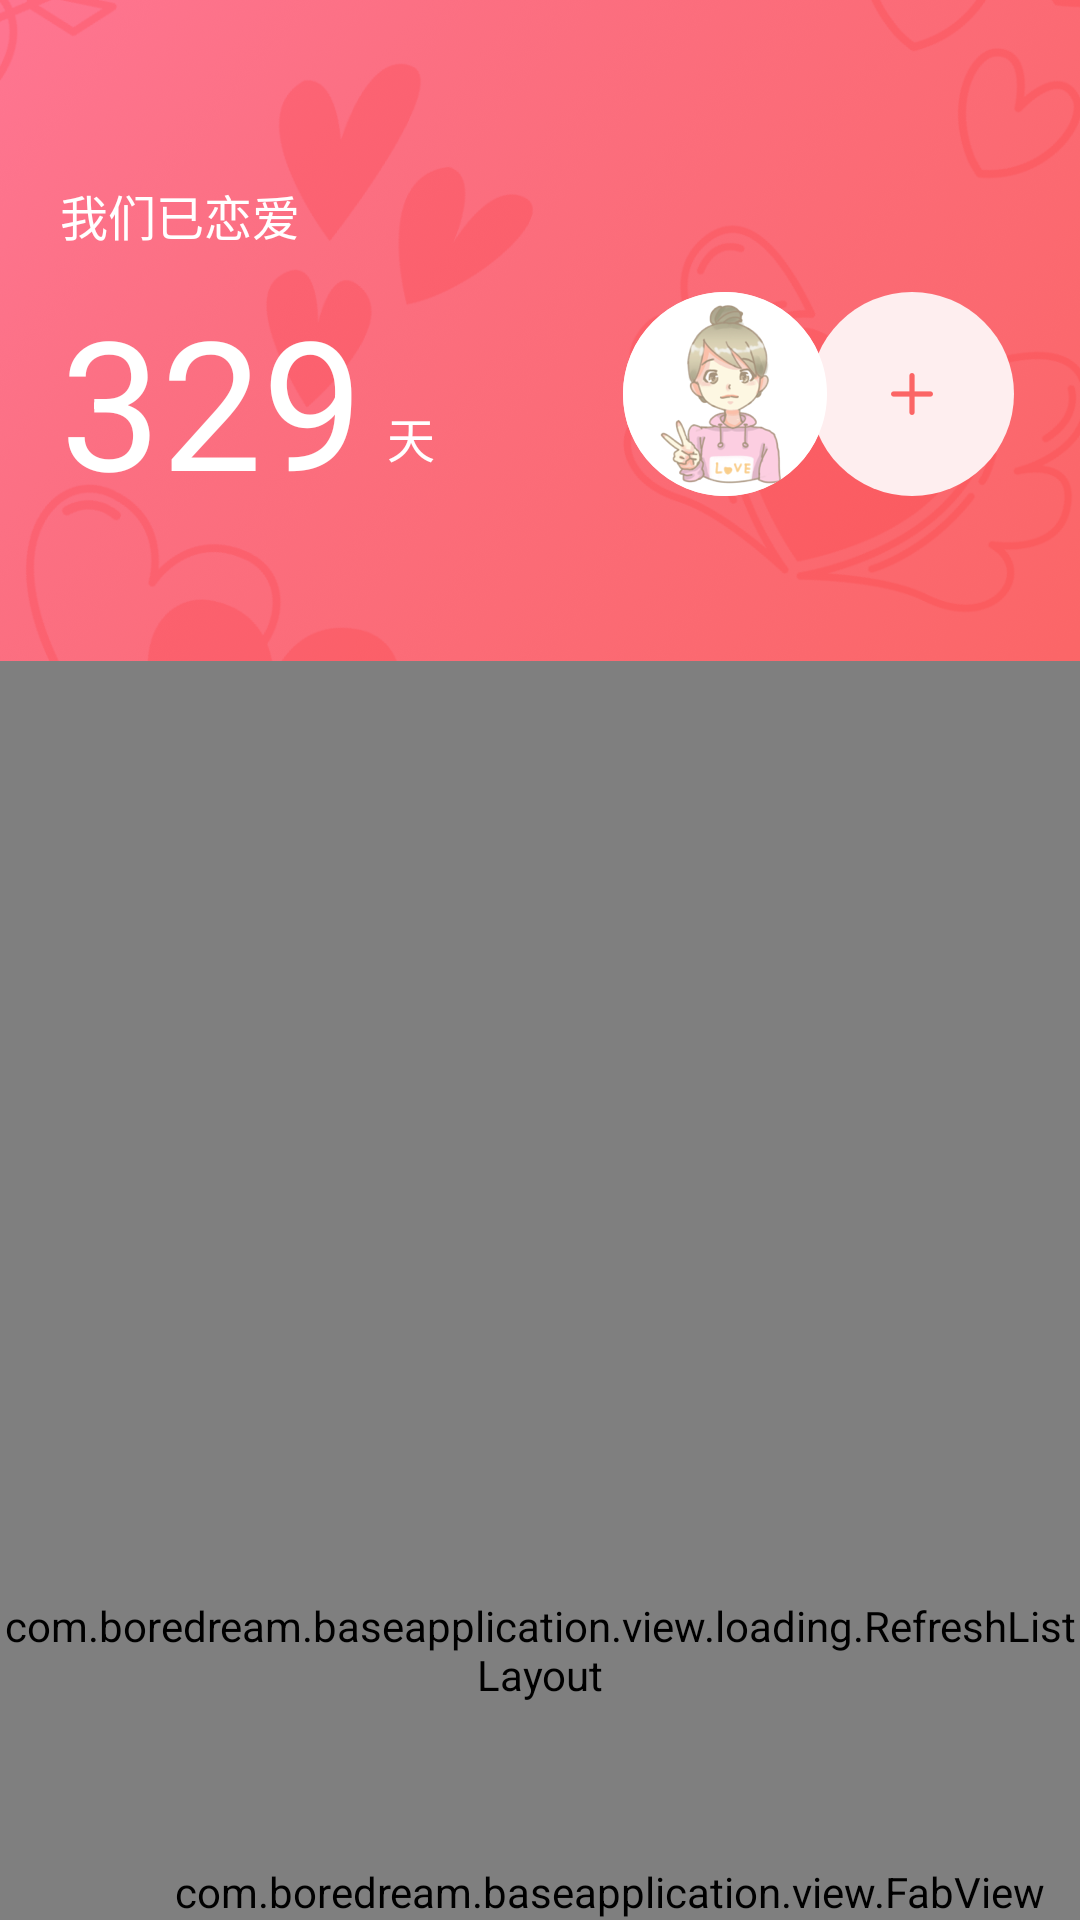

Icon bounding boxes for this 1080x1920 phone screenshot, format (x1, y1, x2, y2):
add: (891, 373, 933, 415)
